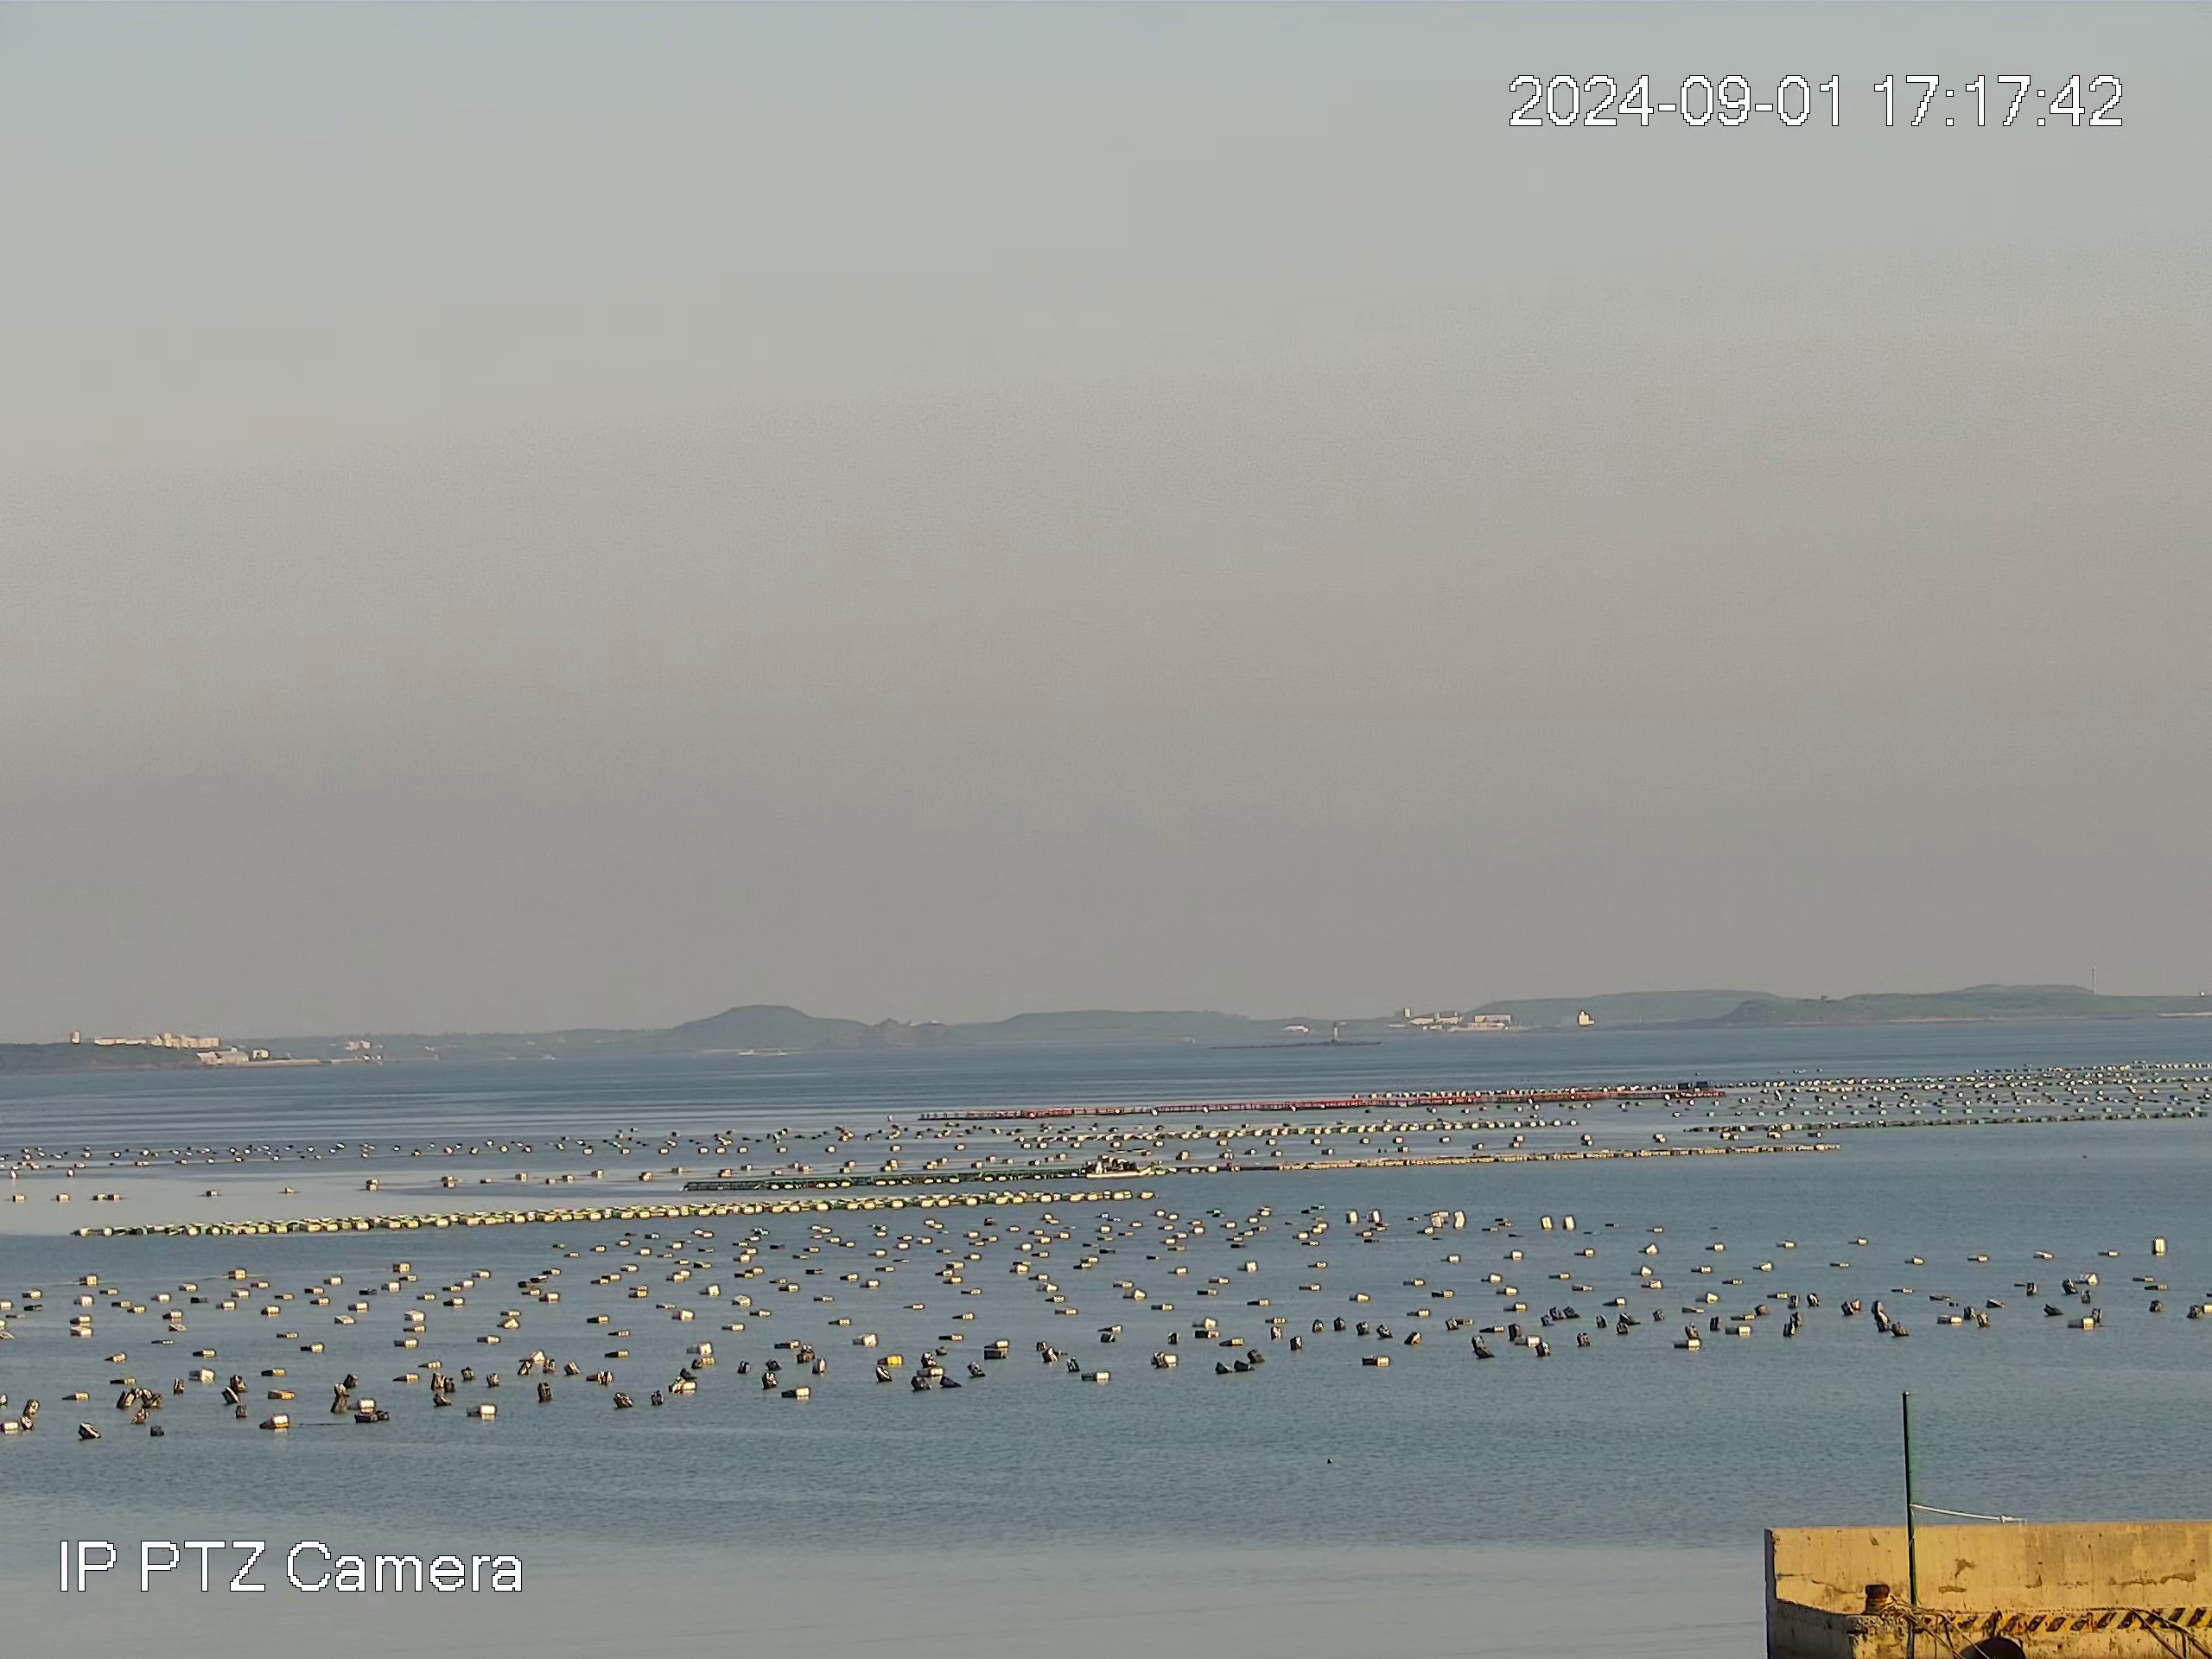boat: (1086, 1150, 1150, 1178)
